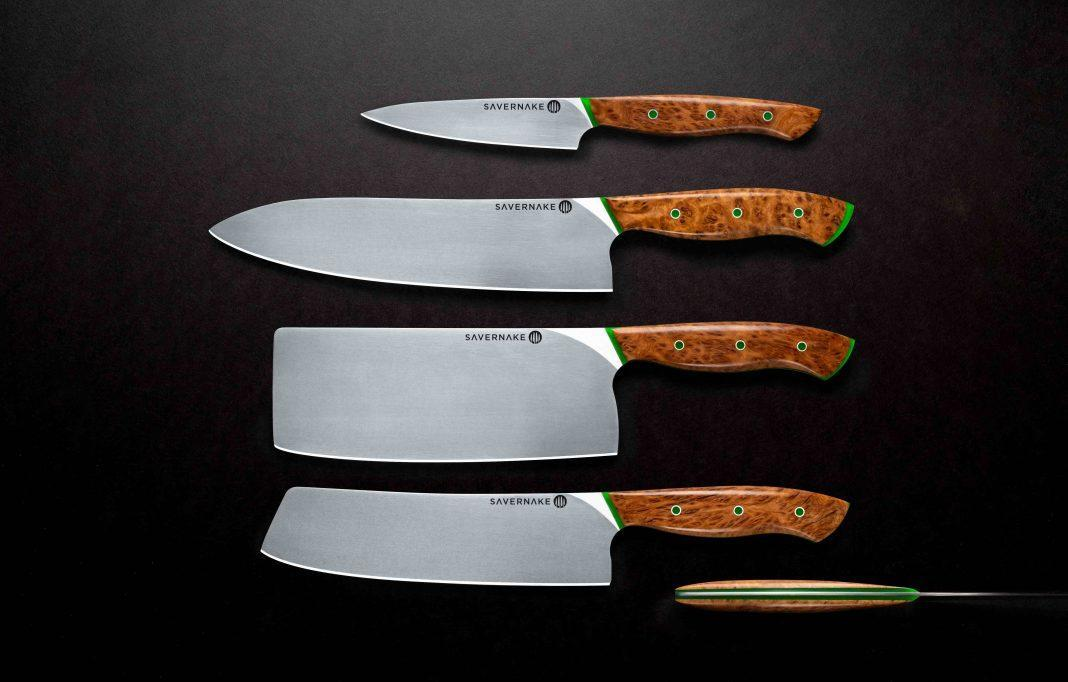faca: (209, 188, 854, 292), (260, 486, 848, 586), (362, 95, 821, 150)
facao: (274, 322, 854, 462)
